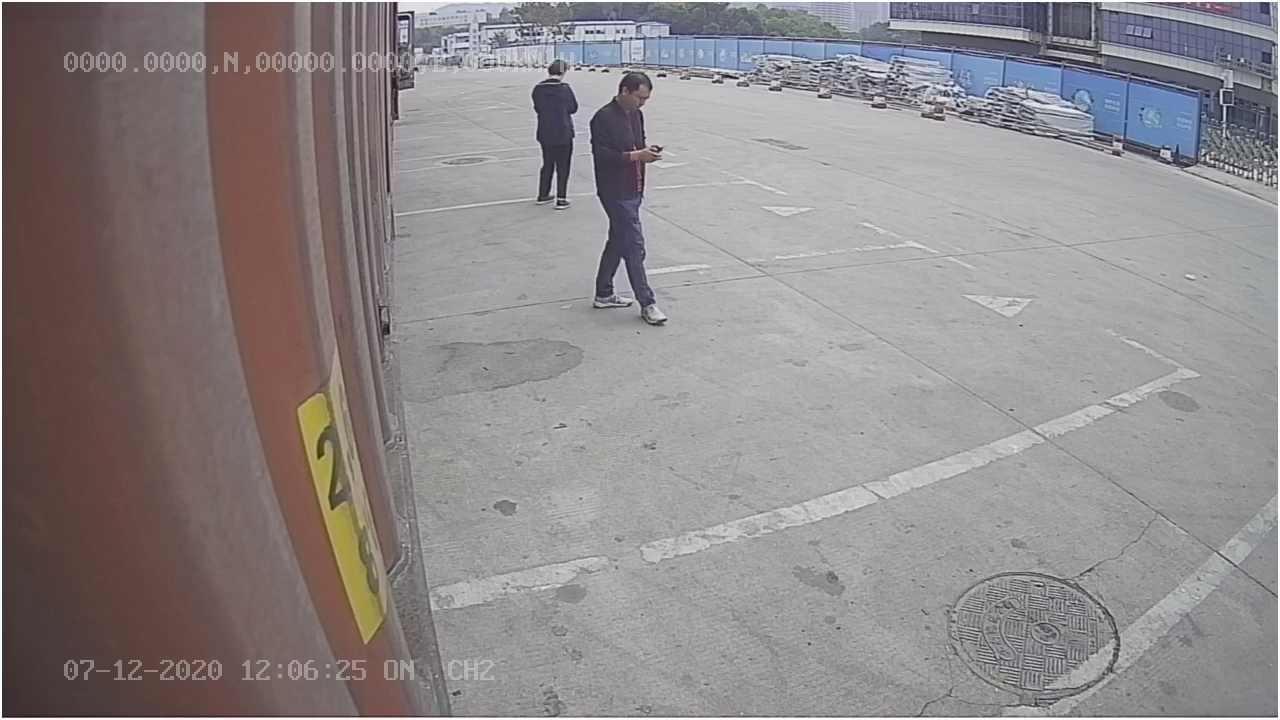person: (585, 66, 671, 324)
